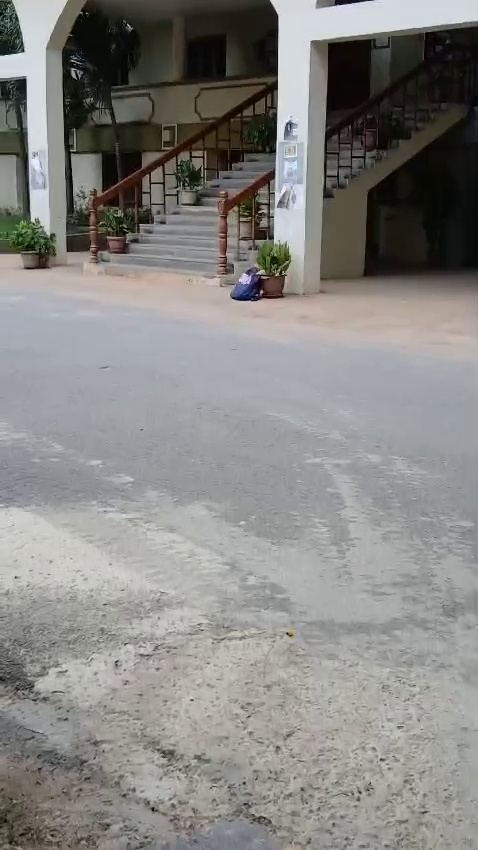bag: (219, 261, 264, 303)
